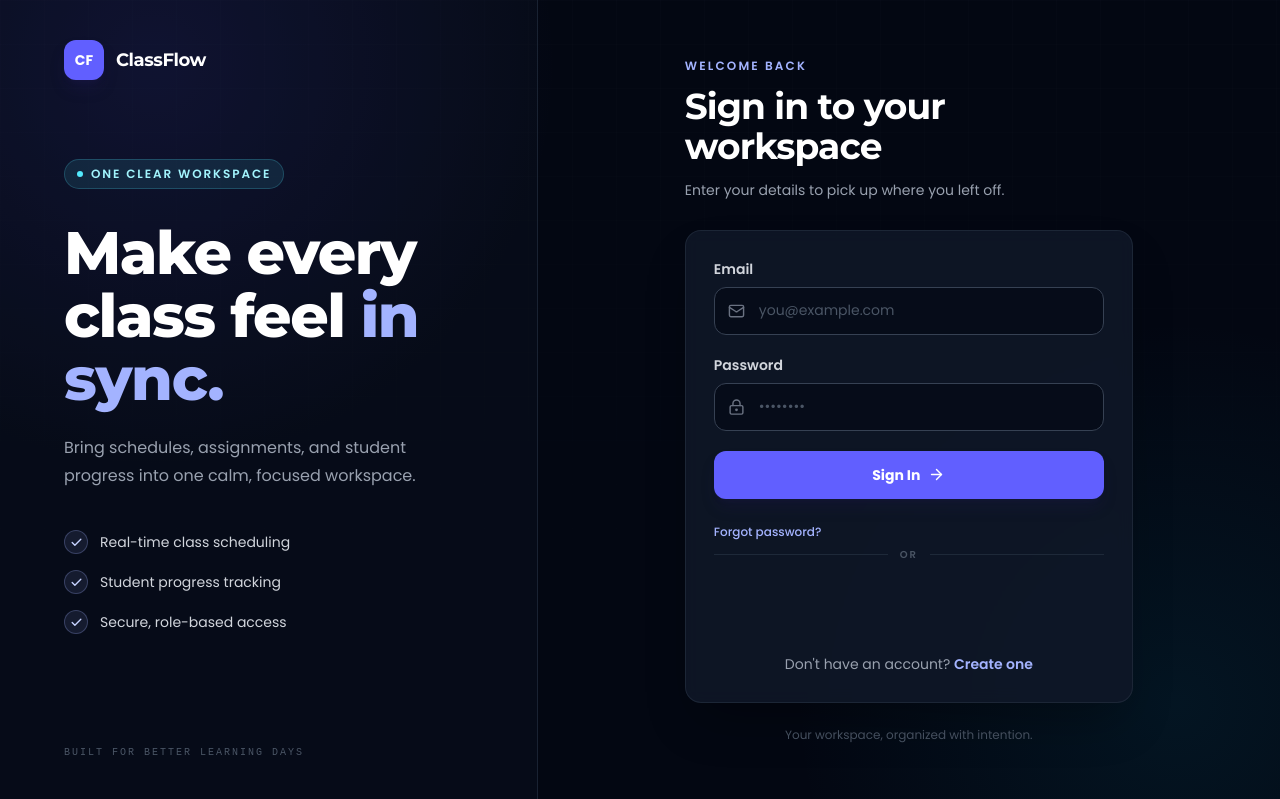
Test: Login › shows a user-facing error when login fails
Step 1. Type "ada@example.com" into the field labelled "Email" → (909, 310), box [714,286,1104,334]
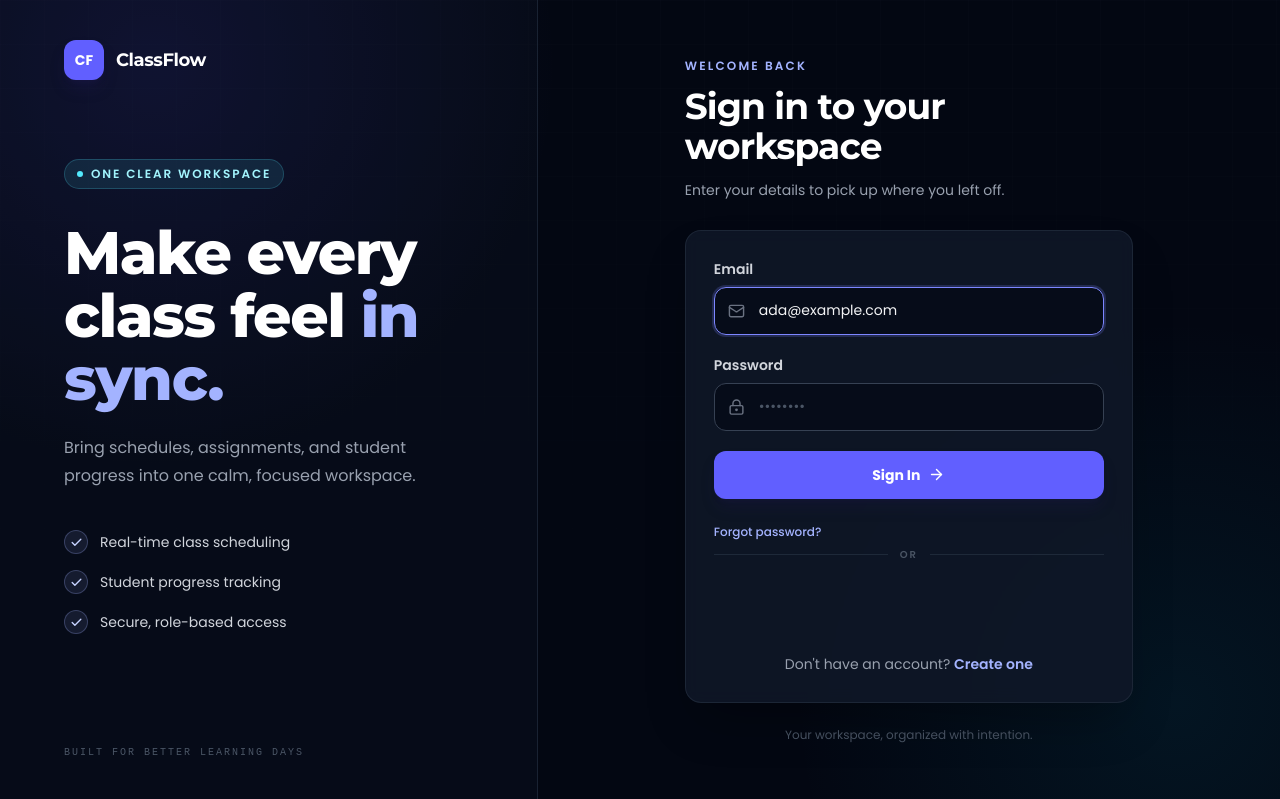
Step 2. Type "secret123" into the password field labelled "Password" → (909, 406), box [714,382,1104,430]
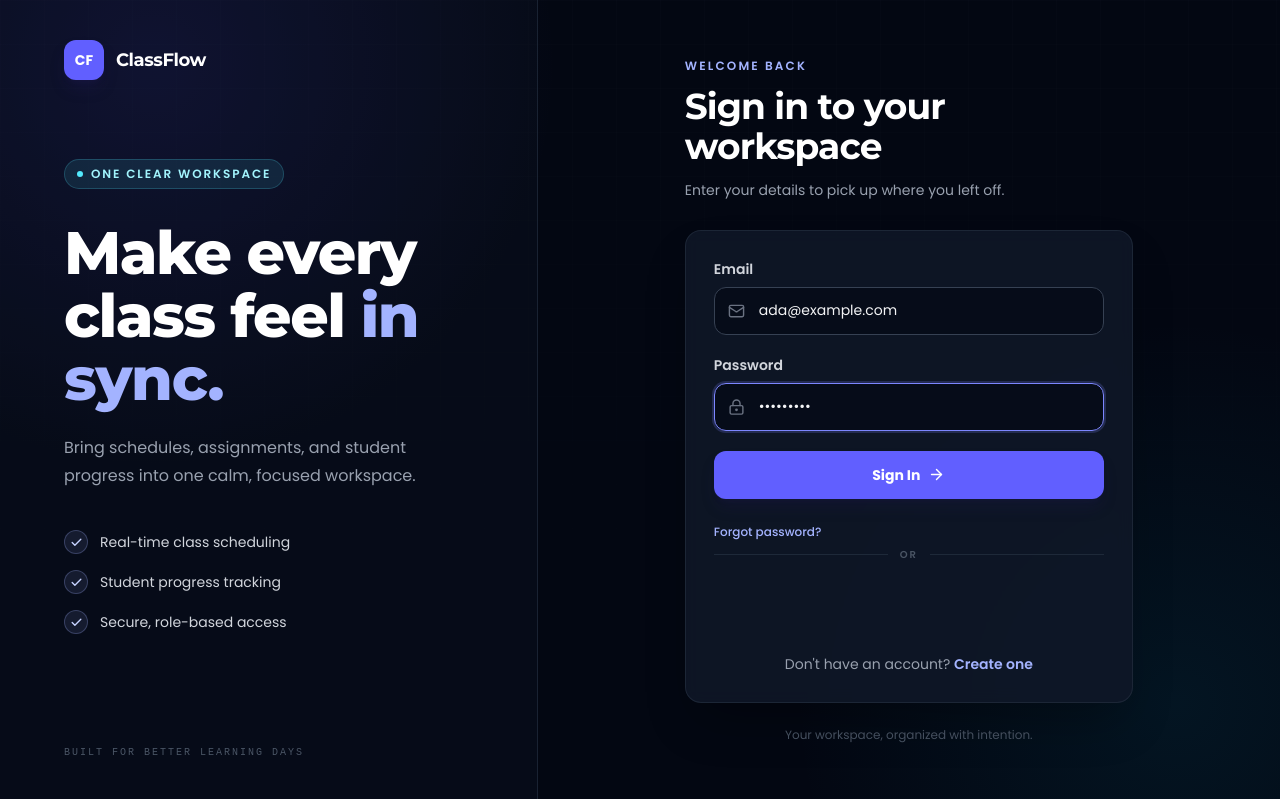
Step 3. Click the button "Sign In" → (909, 474), box [714,450,1104,498]
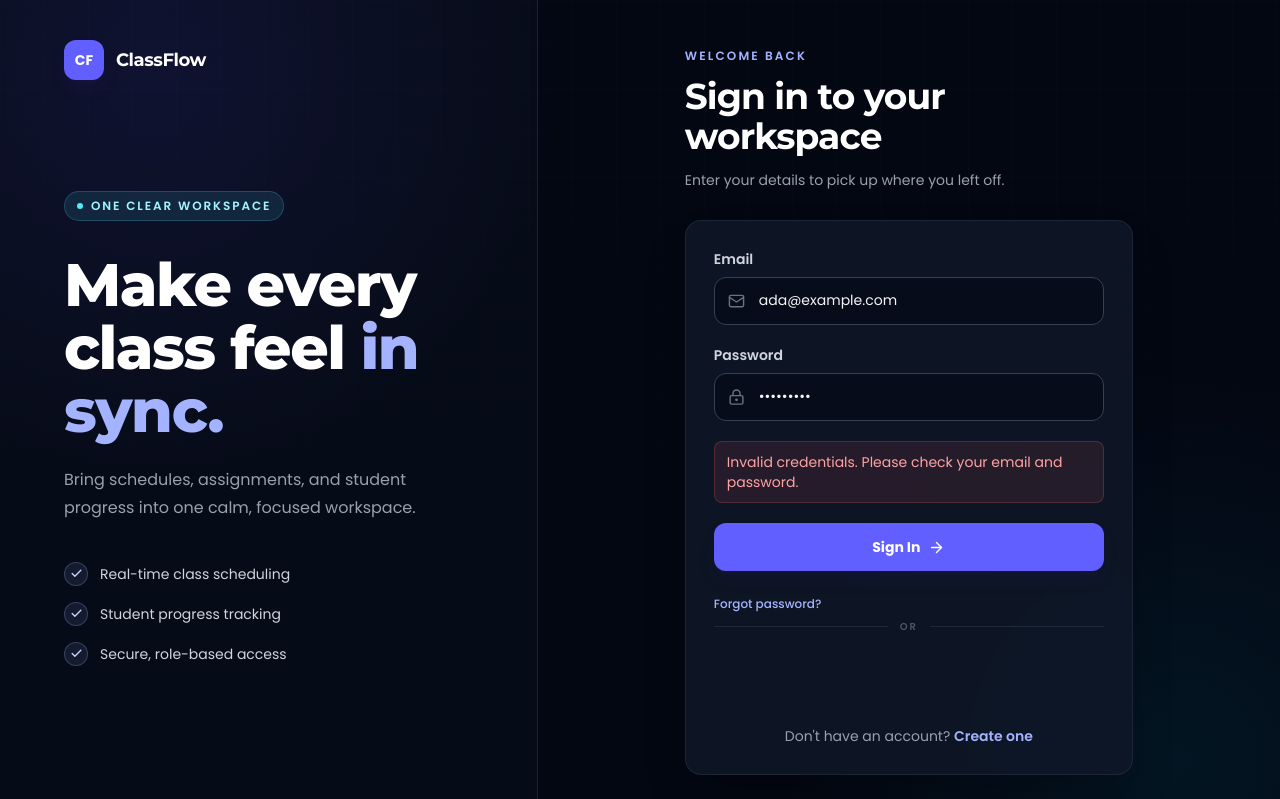
Expected: the message reads "Invalid credentials. Please check your email and password.", [727,452,1062,492]
